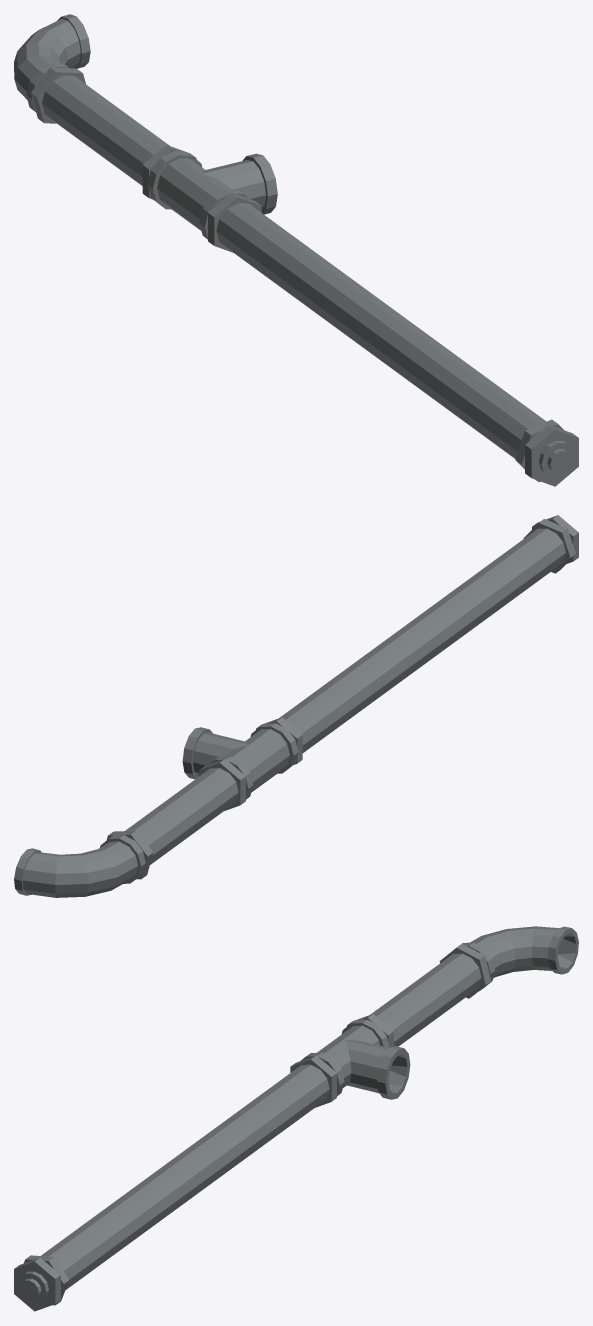
File: Pipe.glb
3 renders of one model, top to bottom at view 1: azimuth 30°, elevation 25°; view 2: azimuth 150°, elevation 25°; view 3: azimuth 330°, elevation 25°, orthographic. The views are drawn at different scales.
Visible parts, largest first — view 1: Pipe; view 2: Pipe; view 3: Pipe.
Boxes of the visible parts, left/top/right/bottom form: Pipe: left=14, top=14, right=578, bottom=486; Pipe: left=14, top=515, right=578, bottom=897; Pipe: left=14, top=926, right=578, bottom=1311.
Bounding box in the file's own units: 0.1794 × 0.104 × 1.86.
Materials: 1 (1 with a texture image).
